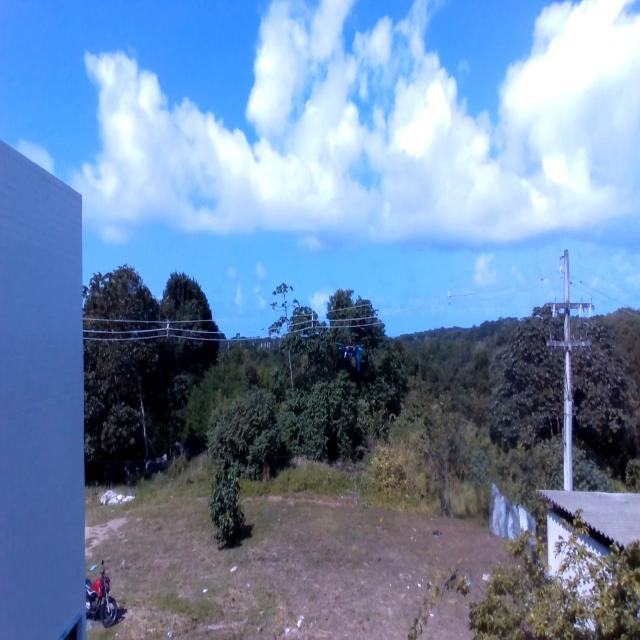-uav-: (336, 328, 376, 390)
